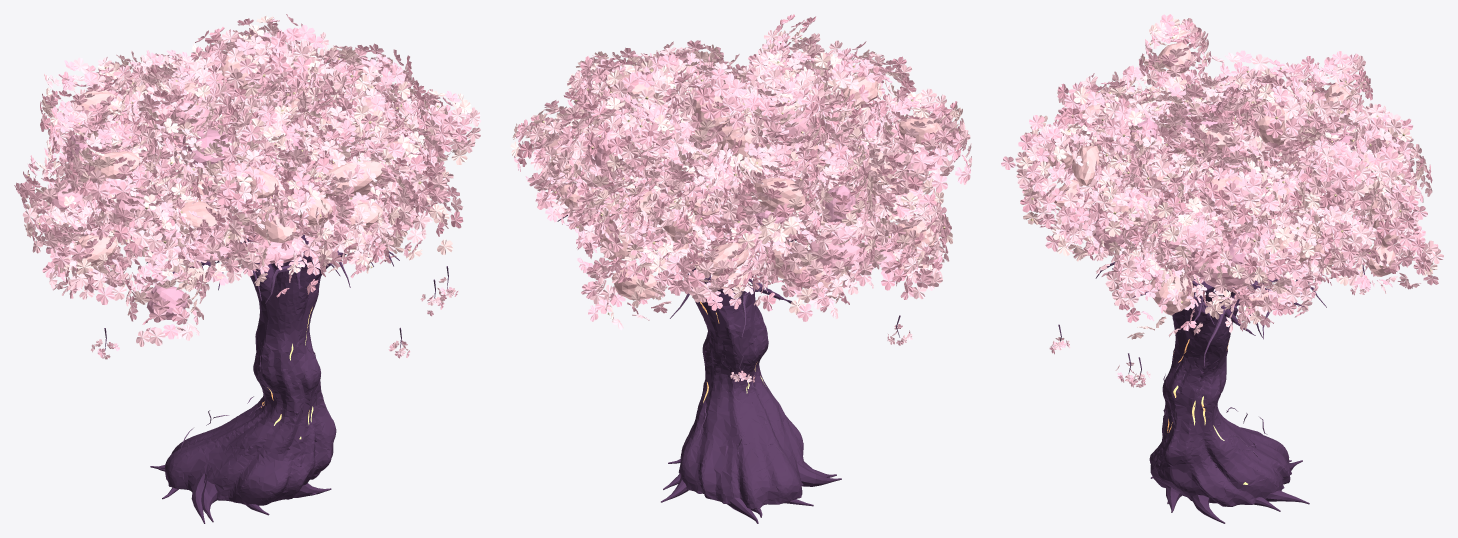
Rendered from sakura_hero.glb.
3 views of the same model, side by side, from view 1: azimuth 30°, elevation 25°; view 2: azimuth 150°, elevation 25°; view 3: azimuth 270°, elevation 25° (orthographic). The views are drawn at different scales.
Visible parts, largest first — view 1: Sakura_petal_pink, Sakura_petal_blush, Trunk_bark_plumblack, Sakura_petal_warm_rose, Sakura_petal_cream, Canopy_peach, Canopy_rose, Canopy_depth_rose, Branches_plum; view 2: Sakura_petal_pink, Sakura_petal_blush, Trunk_bark_plumblack, Sakura_petal_warm_rose, Sakura_petal_cream, Canopy_peach, Canopy_rose, Canopy_depth_rose, Branches_plum; view 3: Sakura_petal_pink, Sakura_petal_blush, Trunk_bark_plumblack, Sakura_petal_warm_rose, Sakura_petal_cream, Canopy_peach, Canopy_rose, Canopy_depth_rose, Branches_plum.
Part boxes in pixels (x1,y1,x2,y2): Sakura_petal_pink: [14, 14, 471, 358]; Sakura_petal_blush: [20, 23, 481, 359]; Trunk_bark_plumblack: [145, 232, 349, 523]; Sakura_petal_warm_rose: [26, 18, 468, 339]; Sakura_petal_cream: [24, 15, 472, 315]; Canopy_peach: [61, 55, 419, 281]; Canopy_rose: [49, 52, 452, 263]; Canopy_depth_rose: [66, 89, 303, 319]; Branches_plum: [103, 235, 448, 450]; Sakura_petal_pink: [514, 20, 970, 382]; Sakura_petal_blush: [518, 23, 972, 382]; Trunk_bark_plumblack: [629, 234, 841, 523]; Sakura_petal_warm_rose: [515, 14, 967, 311]; Sakura_petal_cream: [510, 28, 962, 321]; Canopy_peach: [546, 66, 942, 299]; Canopy_rose: [587, 110, 937, 268]; Canopy_depth_rose: [582, 73, 907, 225]; Branches_plum: [557, 215, 900, 463]; Sakura_petal_pink: [1001, 25, 1438, 387]; Sakura_petal_blush: [1015, 18, 1443, 387]; Trunk_bark_plumblack: [1112, 247, 1309, 523]; Sakura_petal_warm_rose: [1018, 14, 1432, 330]; Sakura_petal_cream: [1018, 18, 1437, 339]; Canopy_peach: [1046, 42, 1398, 315]; Canopy_rose: [1092, 86, 1348, 287]; Canopy_depth_rose: [1121, 103, 1359, 278]; Branches_plum: [1058, 252, 1364, 460].
Size of the model in its own units: 26.45 by 27 by 25.94.
